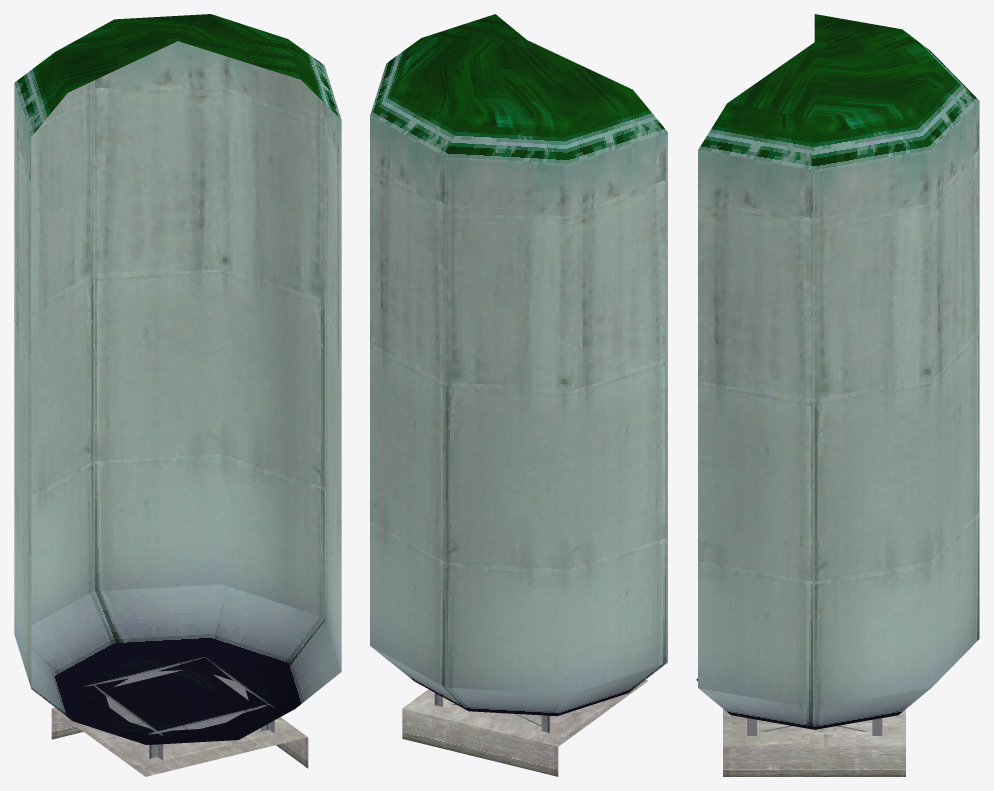
File: stage-flor-p3-408.glb
3 views of the same model, side by side, from view 1: azimuth 30°, elevation 25°; view 2: azimuth 150°, elevation 25°; view 3: azimuth 270°, elevation 25° (orthographic). The views are drawn at different scales.
Bounding box in the file's own units: 4.87 × 11.32 × 4.18.
4 materials, 4 textured.
